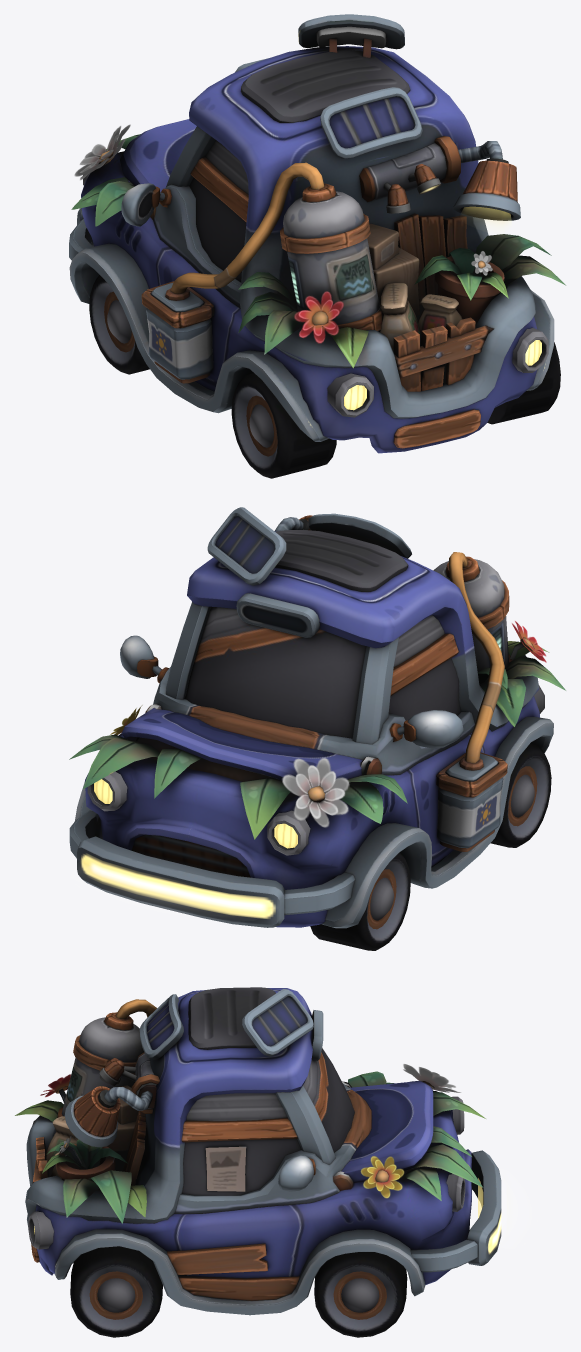
File: cartoon_car.glb
The picture shows the model from 3 angles, top to bottom: view 1: azimuth 30°, elevation 25°; view 2: azimuth 150°, elevation 25°; view 3: azimuth 270°, elevation 25°; orthographic projection. The views are drawn at different scales.
Visible parts, largest first — view 1: polySurface2387; view 2: polySurface2387; view 3: polySurface2387.
Boxes of the visible parts, left/top/right/bottom form: polySurface2387: left=69, top=14, right=566, bottom=478; polySurface2387: left=69, top=507, right=566, bottom=950; polySurface2387: left=15, top=987, right=517, bottom=1337.
Size of the model in its own units: 12.63 by 12.41 by 20.68.
1 material, 1 textured.
